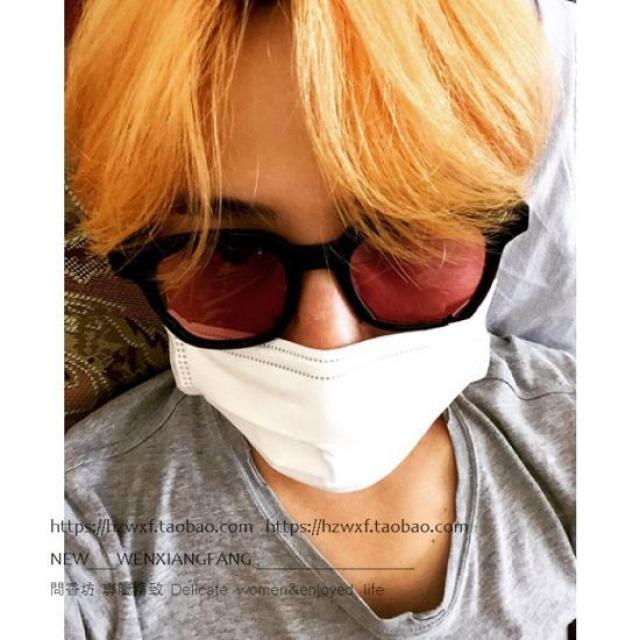mask: (155, 39, 497, 489)
